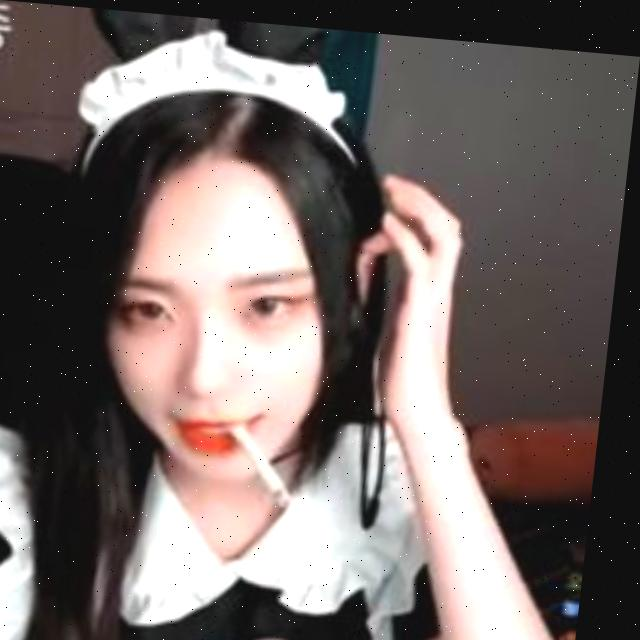cigarette: (232, 415, 314, 503)
